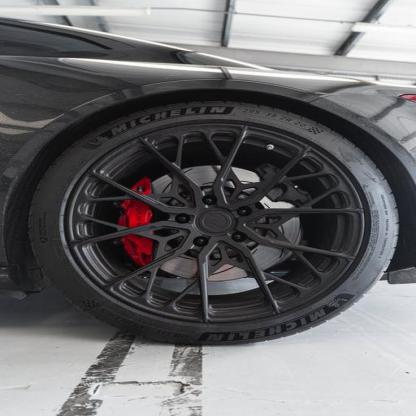Tire: (27, 97, 400, 346)
